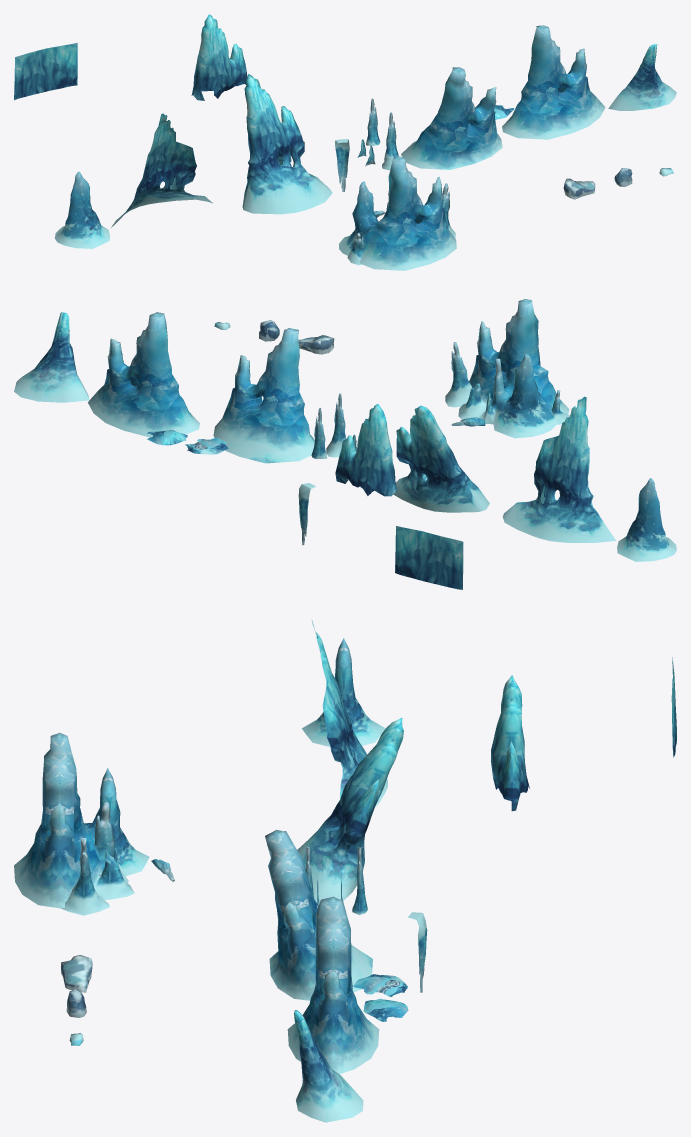
File: f_1134_bingshanshi.FBX
3 views of the same model, one above another, from view 1: azimuth 30°, elevation 25°; view 2: azimuth 150°, elevation 25°; view 3: azimuth 270°, elevation 25° (orthographic). The views are drawn at different scales.
Parts seen in each view (by area): view 1: Object023, Plane005, Object012, Object013, Plane003, Object020, Plane007, Plane006, Object017, Object021, f_1301_floor_a013, Object015 (+1 smaller); view 2: Object023, Object013, Plane003, Object012, Plane005, Object020, Plane007, Object017, Plane006, Object015, f_1301_floor_a013, Object010 (+3 smaller); view 3: Object023, Object012, Plane005, Object013, Object017, Object020, Plane003, Plane006, f_1301_floor_a013, Object010, Plane001.
Boxes of the visible parts, <box> form: Object023: <box>339,156,456,270</box>; Plane005: <box>242,74,332,214</box>; Object012: <box>502,25,605,139</box>; Object013: <box>401,67,502,169</box>; Plane003: <box>111,113,212,227</box>; Object020: <box>191,14,247,100</box>; Plane007: <box>14,43,77,100</box>; Plane006: <box>54,171,109,248</box>; Object017: <box>608,43,676,110</box>; Object021: <box>335,139,349,191</box>; f_1301_floor_a013: <box>563,178,595,199</box>; Object015: <box>382,112,399,170</box>; Object023: <box>445,299,569,438</box>; Object013: <box>213,328,314,463</box>; Plane003: <box>503,396,616,542</box>; Object012: <box>88,312,199,437</box>; Plane005: <box>393,405,489,512</box>; Object020: <box>335,404,397,496</box>; Plane007: <box>395,526,463,589</box>; Object017: <box>14,312,89,402</box>; Plane006: <box>617,478,676,561</box>; Object015: <box>326,393,346,457</box>; f_1301_floor_a013: <box>298,335,334,354</box>; Object010: <box>185,438,228,454</box>; Object023: <box>14,732,149,915</box>; Object012: <box>287,896,379,1074</box>; Plane005: <box>297,717,403,902</box>; Object013: <box>265,830,372,1000</box>; Object017: <box>294,1010,363,1122</box>; Object020: <box>491,675,529,811</box>; Plane003: <box>311,619,387,806</box>; Plane006: <box>302,638,385,746</box>; f_1301_floor_a013: <box>61,955,92,992</box>; Object010: <box>353,974,407,996</box>; Plane001: <box>363,998,408,1021</box>.
Bounding box in the file's own units: 4906 × 1371 × 3311.
